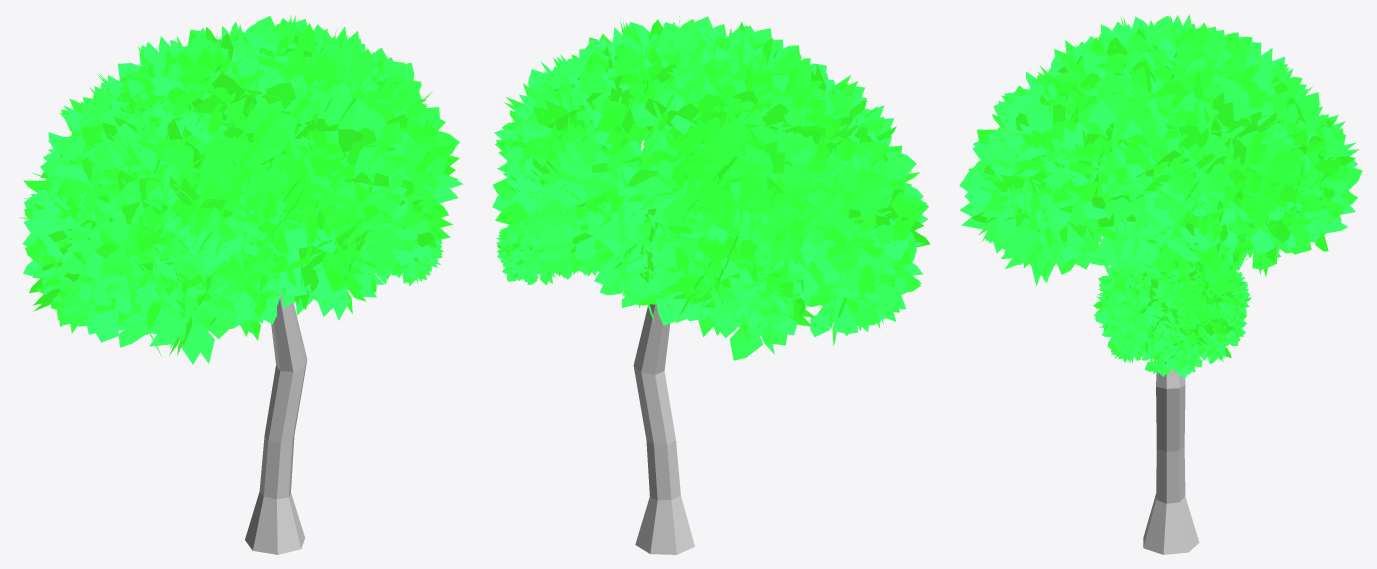
Rendered from tree.fbx.
3 renders of one model, left to right at view 1: azimuth 30°, elevation 25°; view 2: azimuth 150°, elevation 25°; view 3: azimuth 270°, elevation 25°, orthographic. The views are drawn at different scales.
Parts seen in each view (by area): view 1: Plane.002, Cylinder; view 2: Plane.002, Cylinder; view 3: Plane.002, Cylinder.
Boxes of the visible parts, <box> form: Plane.002: <box>19,15,463,364</box>; Cylinder: <box>245,287,307,554</box>; Plane.002: <box>492,16,930,360</box>; Cylinder: <box>633,304,694,554</box>; Plane.002: <box>959,14,1362,378</box>; Cylinder: <box>1143,360,1199,554</box>.
Size of the model in its own units: 2.59 by 3.18 by 2.36.
